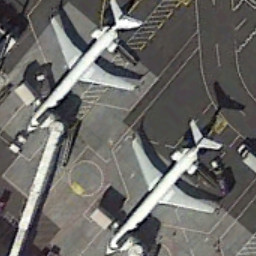Airplane: (18, 1, 152, 134), (103, 121, 226, 256)
